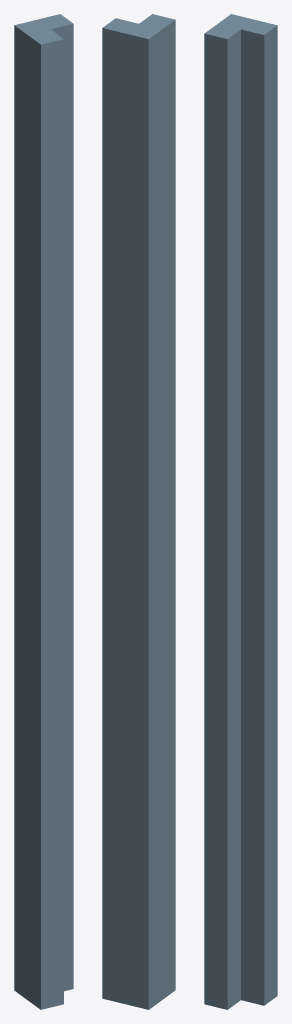
The model's file is block_stone_north_west.dae.
3 renders of one model, left to right at view 1: azimuth 30°, elevation 25°; view 2: azimuth 150°, elevation 25°; view 3: azimuth 330°, elevation 25°, orthographic.
Parts seen in each view (by area): view 1: block_stone_north_west; view 2: block_stone_north_west; view 3: block_stone_north_west.
Part boxes in pixels (box(x1,y1,x2,y2)): block_stone_north_west: box(14, 14, 73, 1009); block_stone_north_west: box(102, 14, 175, 1009); block_stone_north_west: box(204, 14, 277, 1009).
Bounding box in the file's own units: 0.2 × 0.2 × 4.
1 material, 1 textured.
